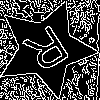R: (21, 23, 78, 82)
